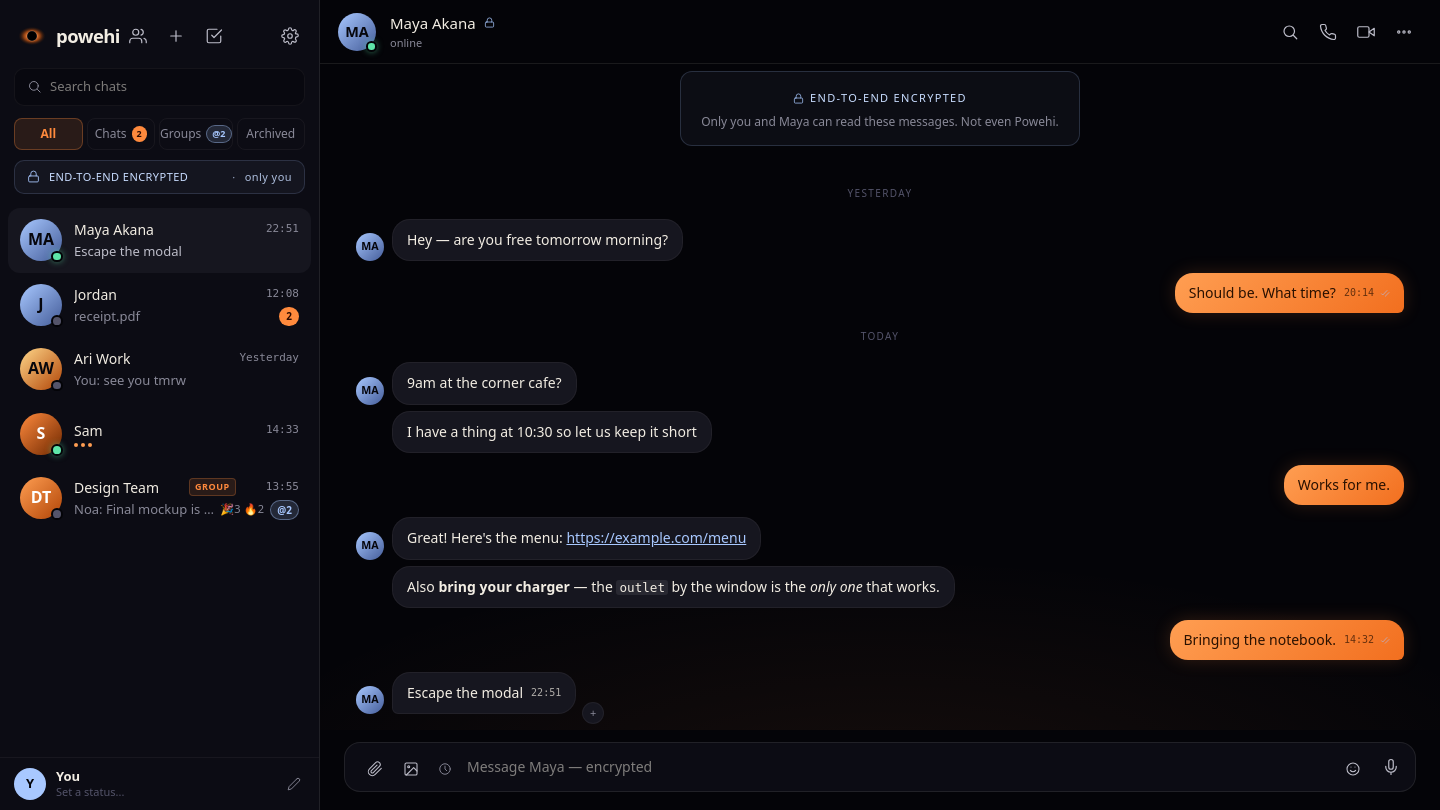
Scenario: ChatLayout — message forwarding › pressing Escape inside the modal dismisses it
(page scrolled)
Hover over the element with test id "message-bubble" showing "MA Escape the modal 22:51 +" at {"x": 480, "y": 698}, box [356,672,604,724]
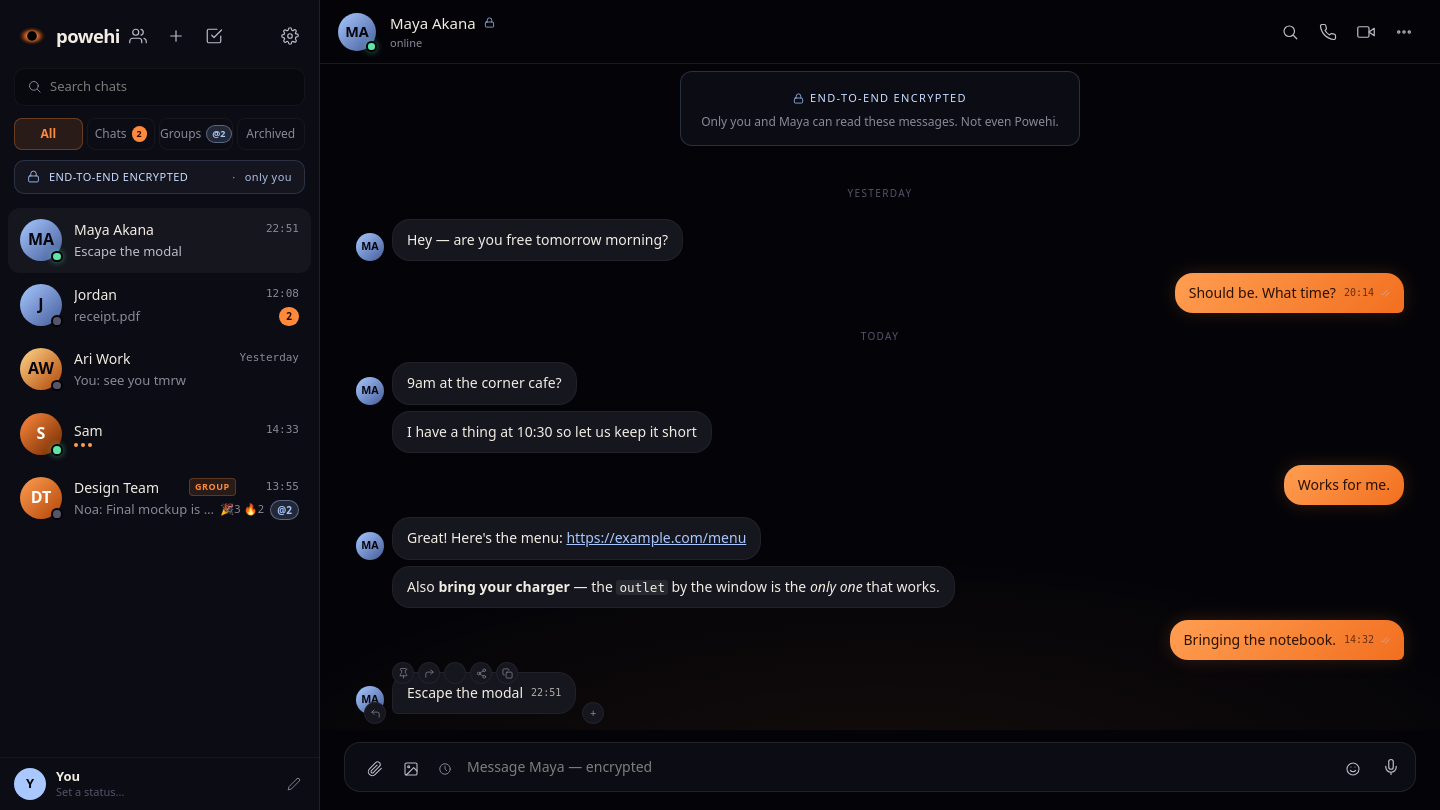
Click the button with test id "forward-button" at {"x": 429, "y": 673}, box [418,662,440,684]
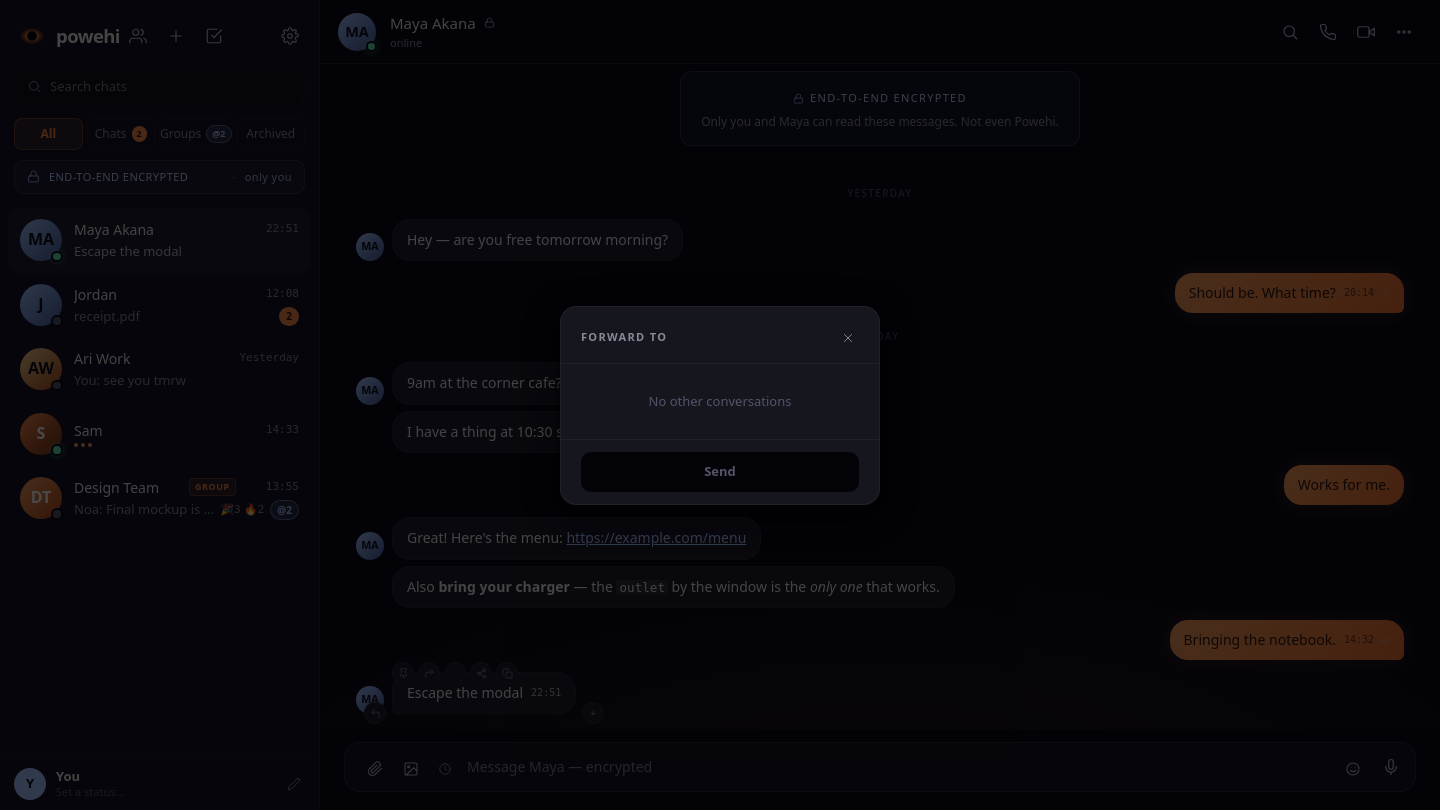
expect the element with test id "forward-modal" is shown: met, box [560,306,880,504]
Press Escape in the button with test id "forward-modal-close", box [837,326,859,348]
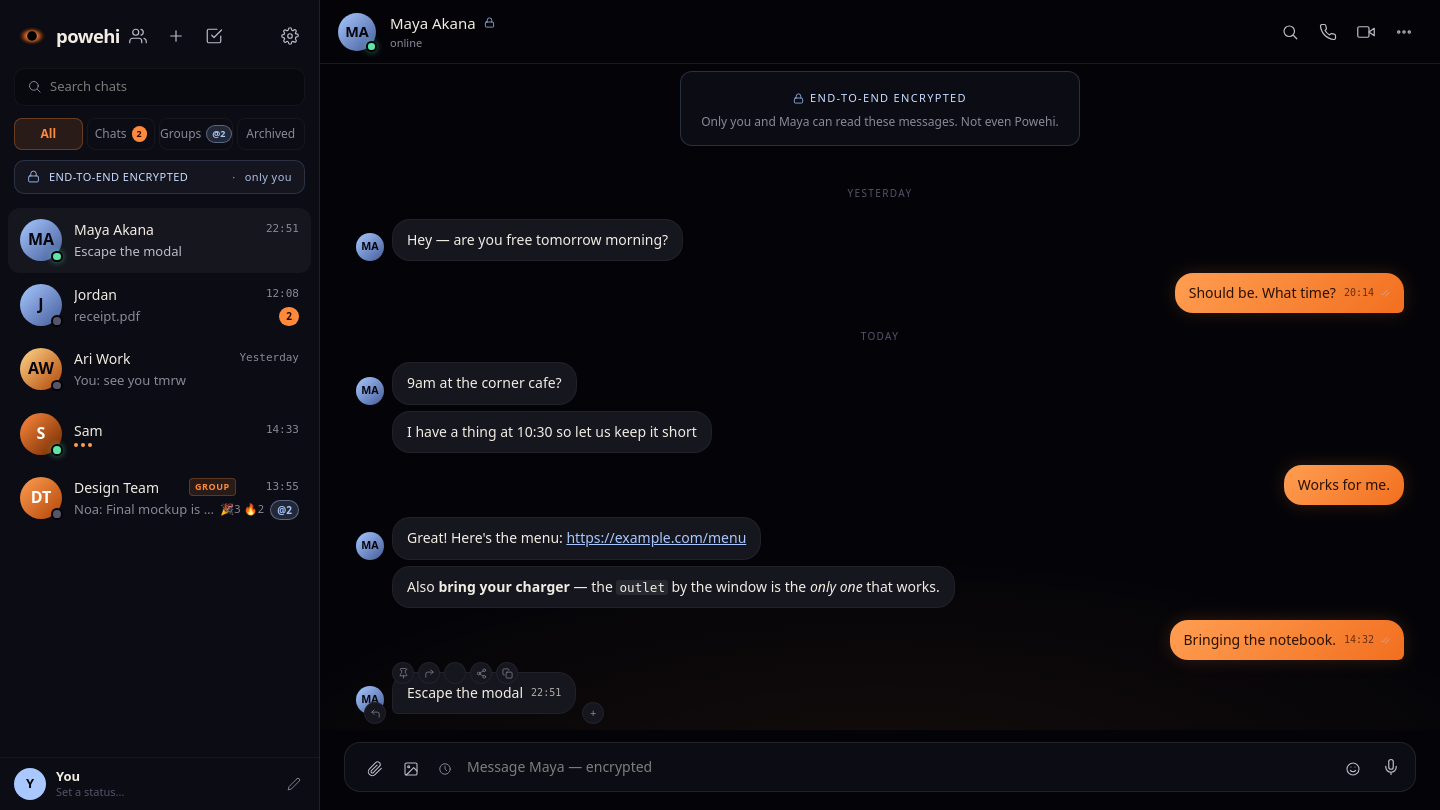
expect the element with test id "forward-modal" is gone: met
